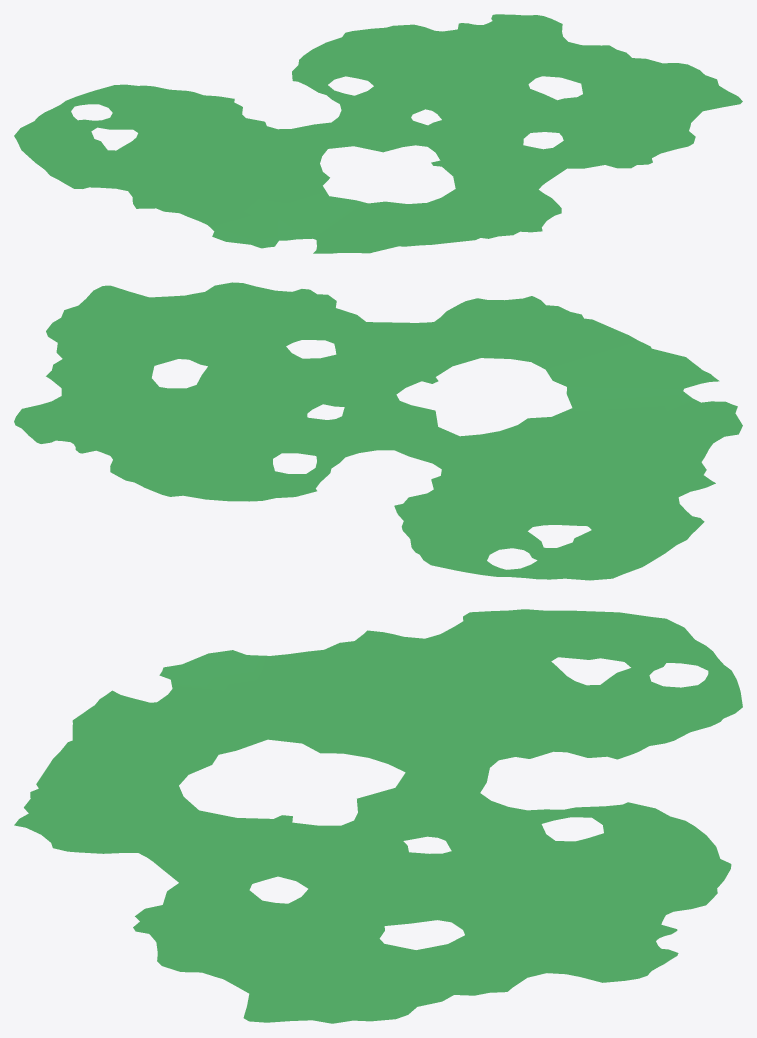
The model's file is Grass_Mesh_Intermidiate_Day.fbx.
The picture shows the model from 3 angles, top to bottom: view 1: azimuth 30°, elevation 25°; view 2: azimuth 150°, elevation 25°; view 3: azimuth 270°, elevation 25°; orthographic projection. The views are drawn at different scales.
Parts seen in each view (by area): view 1: grass_mesh; view 2: grass_mesh; view 3: grass_mesh.
Boxes of the visible parts, <box> form: grass_mesh: <box>14,14,742,253</box>; grass_mesh: <box>14,282,742,580</box>; grass_mesh: <box>14,609,742,1023</box>.
Size of the model in its own units: 13783 by 55.68 by 10242.
